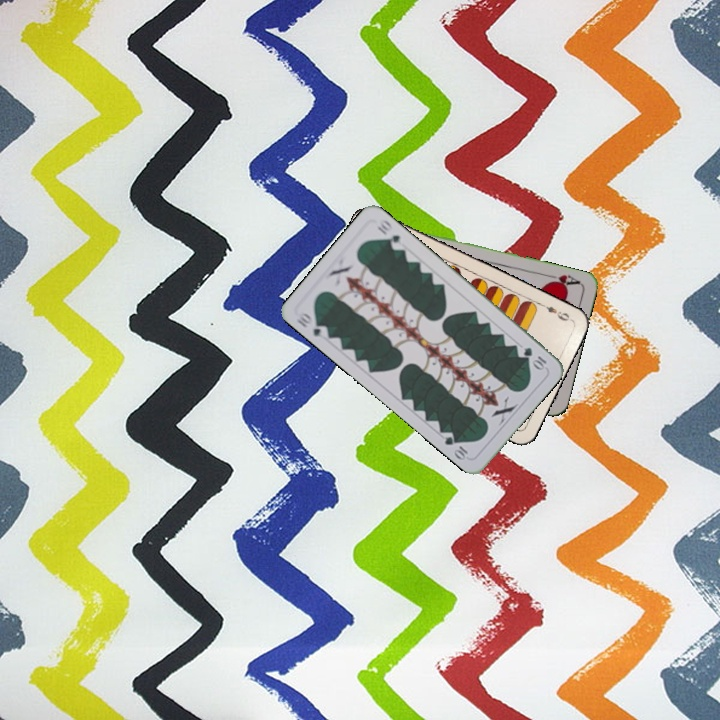E9: (536, 299, 574, 324)
G10: (292, 307, 331, 340), (519, 343, 549, 372)
HA: (542, 270, 583, 290)
